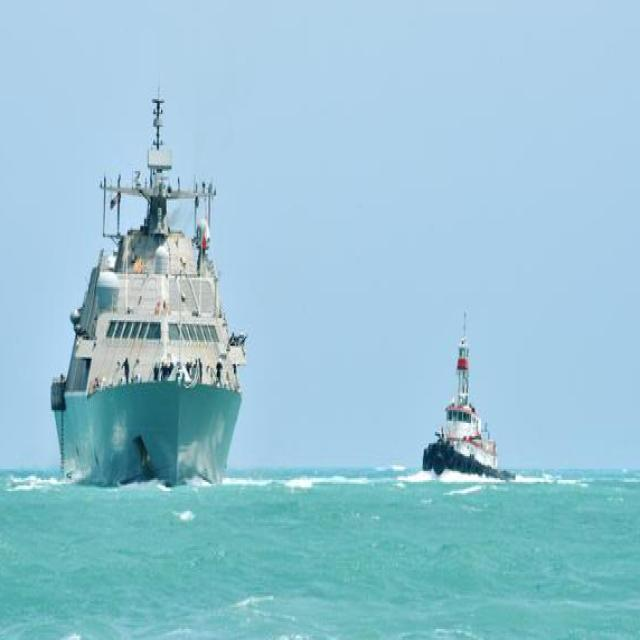navalvessels: (50, 81, 247, 475), (418, 320, 512, 483)
